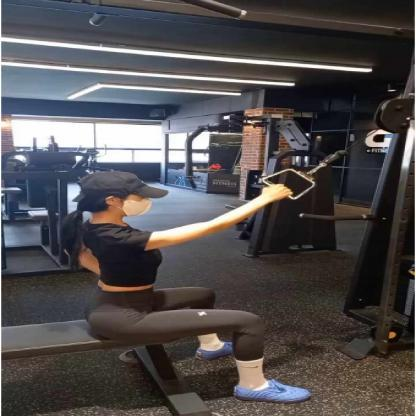Seated Cable Rows: (0, 80, 416, 398)
